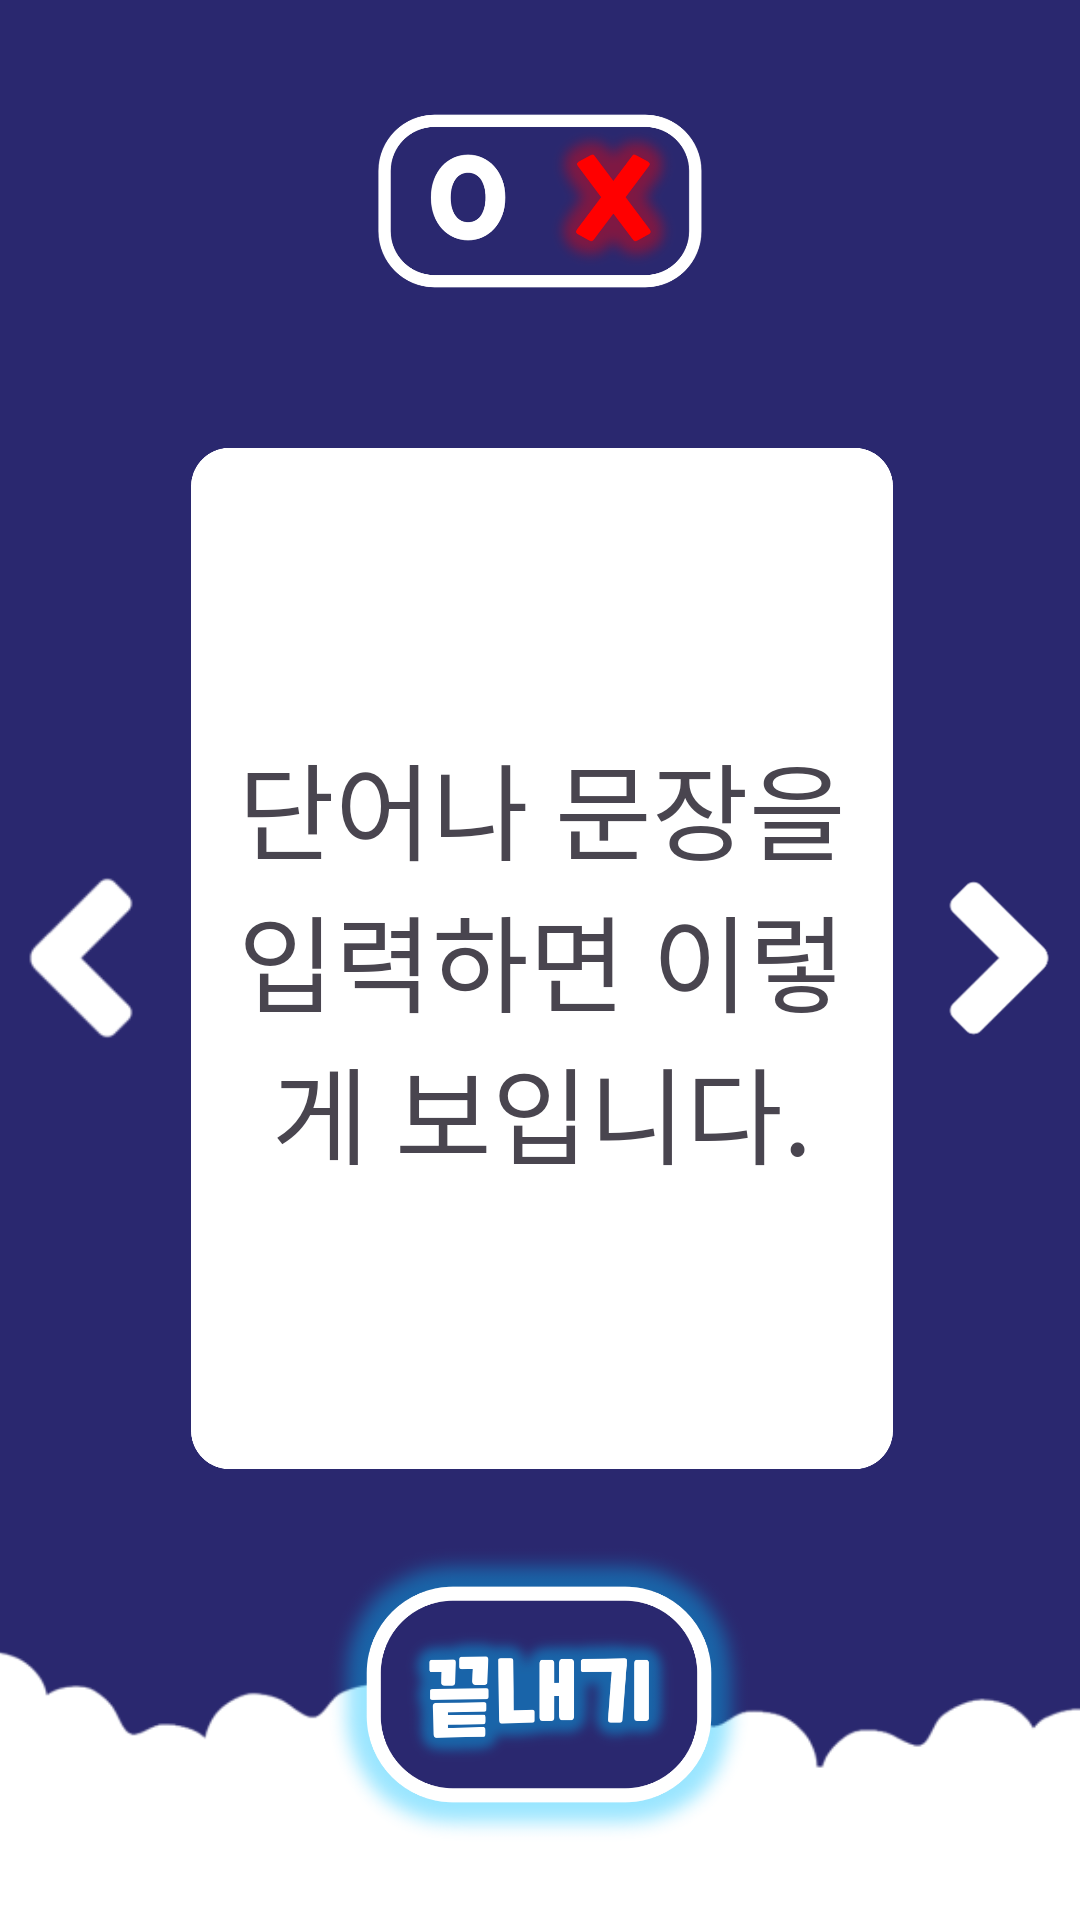

Named icons in this screenshot (1080x1920) and their centers, (x,y):
arrow left: (81,958)
arrow right: (999,958)
wrong: (540,201)
